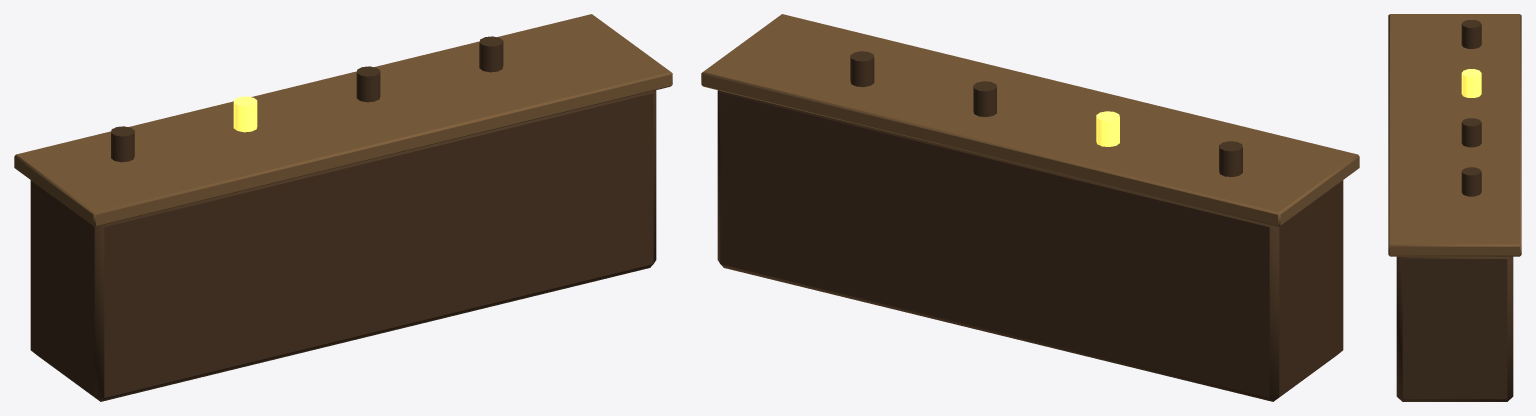
The model's file is counter.glb.
3 renders of one model, left to right at view 1: azimuth 30°, elevation 25°; view 2: azimuth 150°, elevation 25°; view 3: azimuth 270°, elevation 25°, orthographic. The views are drawn at different scales.
Parts seen in each view (by area): view 1: building; view 2: building; view 3: building.
Part boxes in pixels (x1,y1,x2,y2): building: (14, 14, 672, 401); building: (701, 14, 1359, 401); building: (1388, 14, 1521, 401).
Size of the model in its own units: 3.3 by 1.22 by 0.8.
